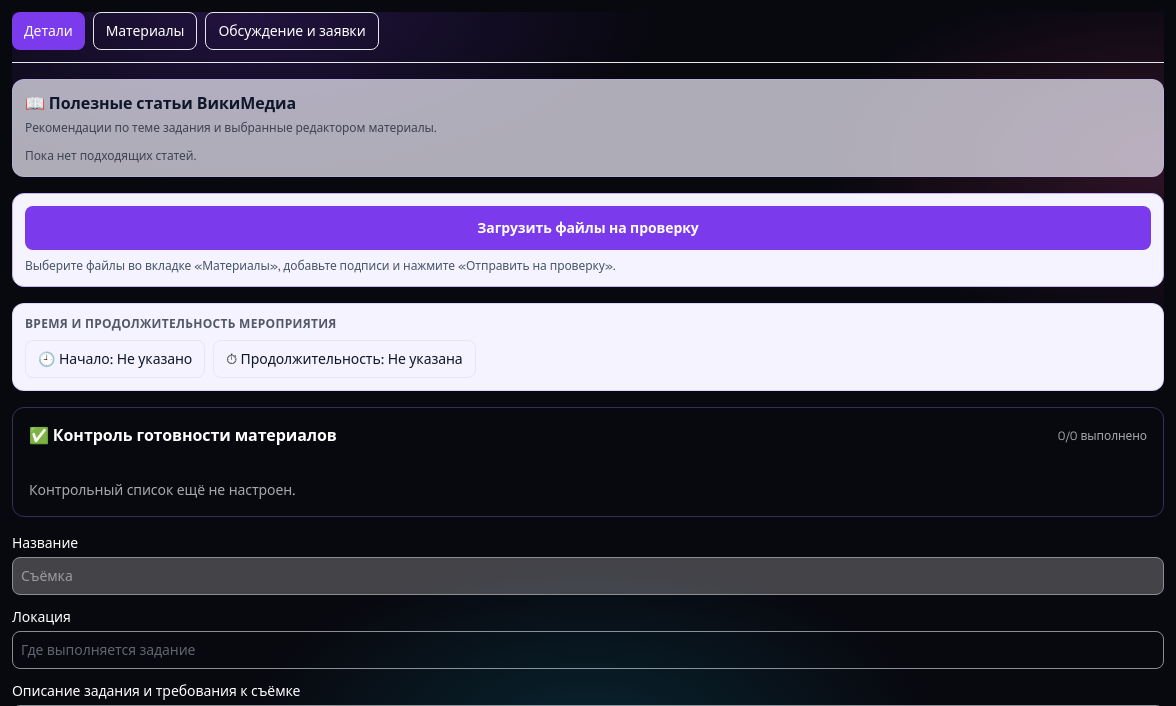
Test: upload entry in task details › opens materials for the assignee in TODO
Click the button "Загрузить файлы на проверку".
click(588, 228)  # box [25,206,1151,250]
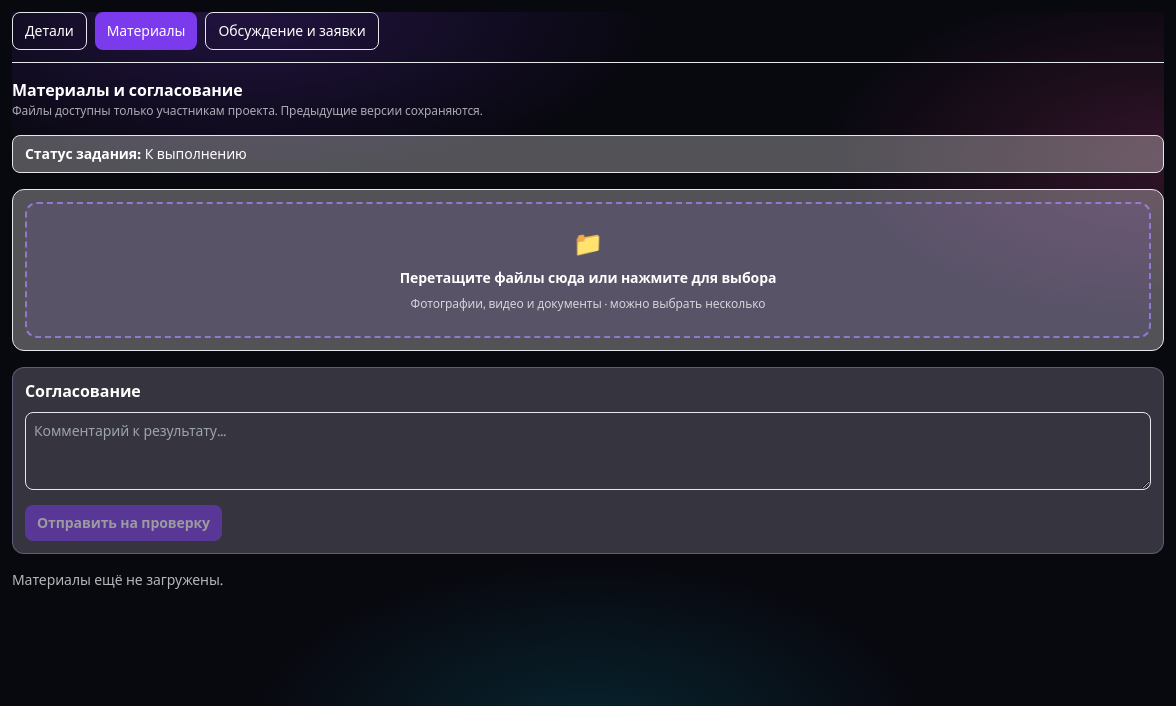
Check: the button "Загрузить файлы на проверку" is gone
